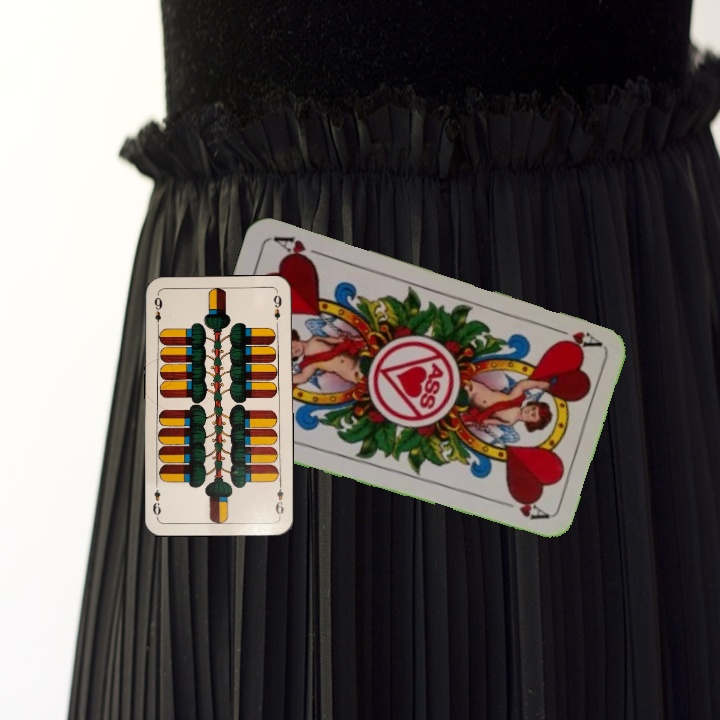E9: (271, 479, 286, 519), (150, 291, 165, 331)
HA: (546, 322, 603, 354)
